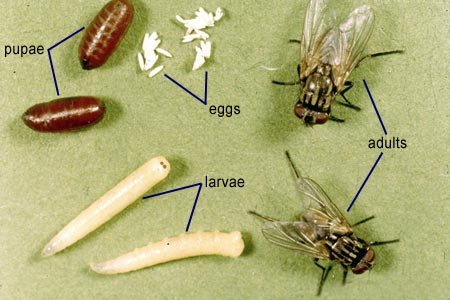phorid fly: (251, 150, 404, 295), (270, 1, 407, 129)
